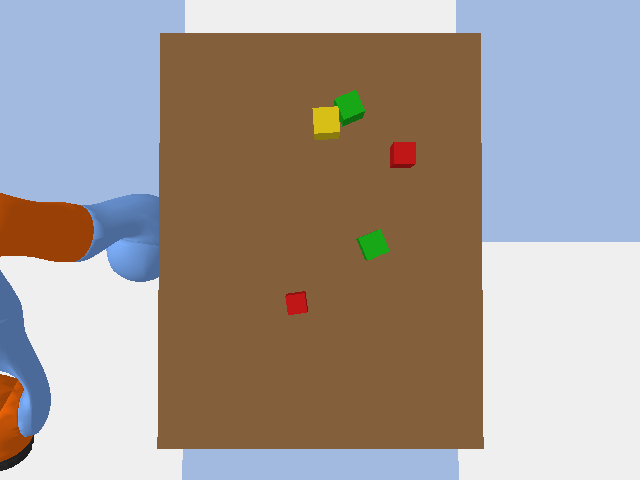green_obj: (334, 90, 364, 126), (356, 229, 389, 260)
red_obj: (390, 142, 415, 167), (285, 291, 307, 314)
yellow_obj: (312, 106, 339, 139)
